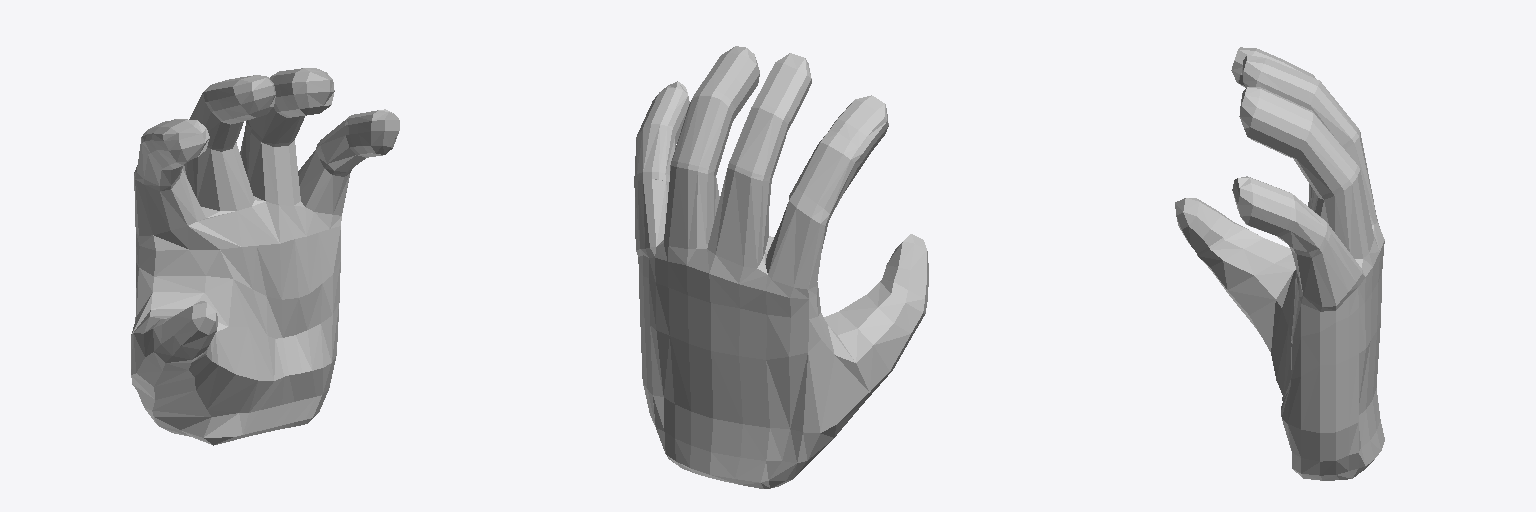
The model's file is angulo_aberto_afastado.obj.
3 views of the same model, side by side, from view 1: azimuth 30°, elevation 25°; view 2: azimuth 150°, elevation 25°; view 3: azimuth 270°, elevation 25° (orthographic).
Visible parts, largest first — view 1: objobjBox06; view 2: objobjBox06; view 3: objobjBox06.
Boxes of the visible parts, <box> form: objobjBox06: <box>131,68,399,445</box>; objobjBox06: <box>634,46,928,488</box>; objobjBox06: <box>1175,47,1384,480</box>.
Size of the model in its own units: 159 by 227 by 113.